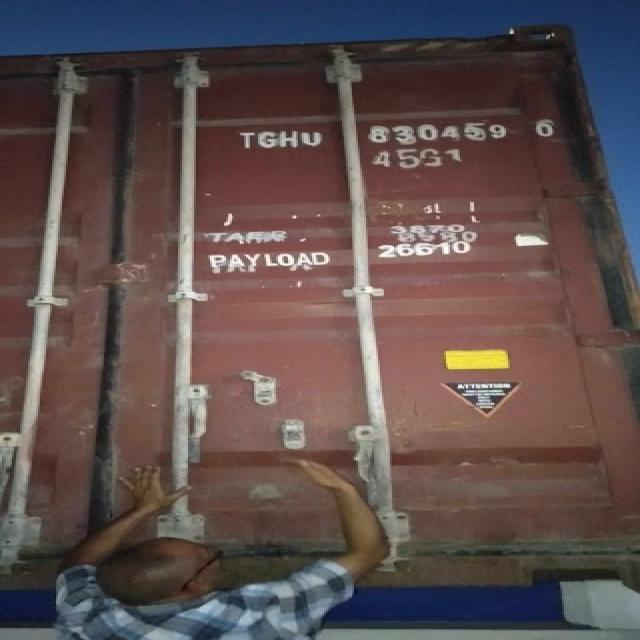ISO: (372, 143, 469, 169)
container_number: (232, 114, 560, 150)
